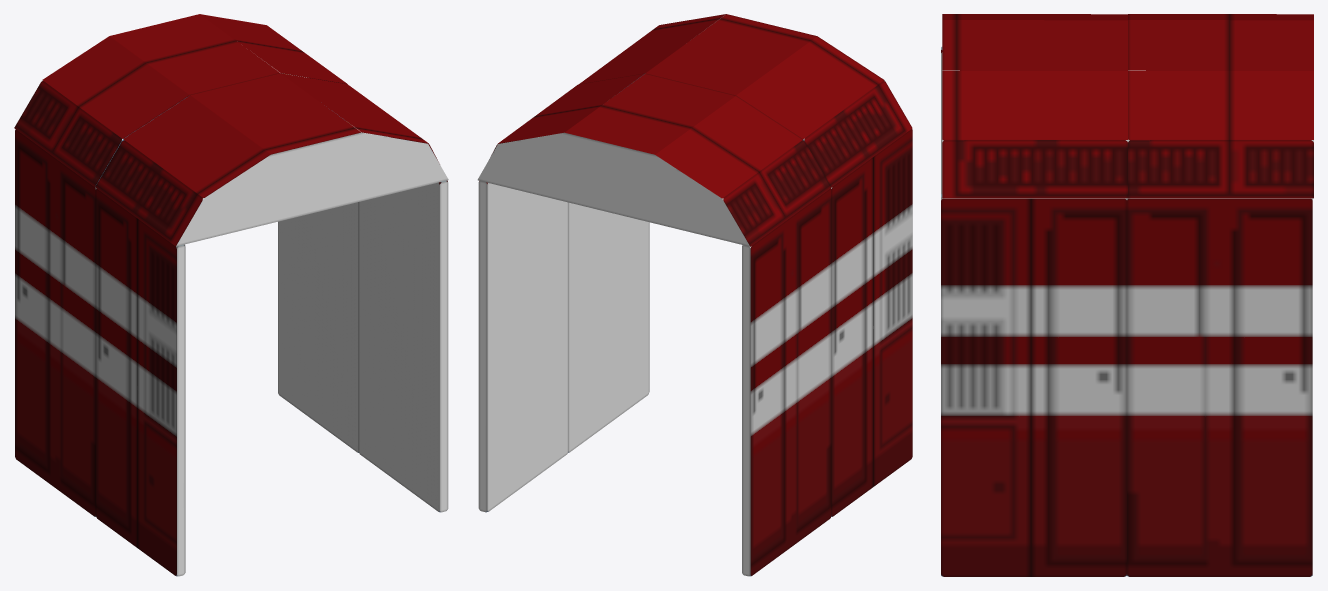
File: df7g_enclosure_e.obj
3 views of the same model, side by side, from view 1: azimuth 30°, elevation 25°; view 2: azimuth 150°, elevation 25°; view 3: azimuth 270°, elevation 25° (orthographic). The views are drawn at different scales.
Parts seen in each view (by area): view 1: df7g_enclosure_e; view 2: df7g_enclosure_e; view 3: df7g_enclosure_e.
Boxes of the visible parts, x1,y1,x2,y2 form: df7g_enclosure_e: (14,14,448,576); df7g_enclosure_e: (477,14,912,576); df7g_enclosure_e: (941,14,1313,576).
Bounding box in the file's own units: 1.95 × 2.72 × 2.01.
